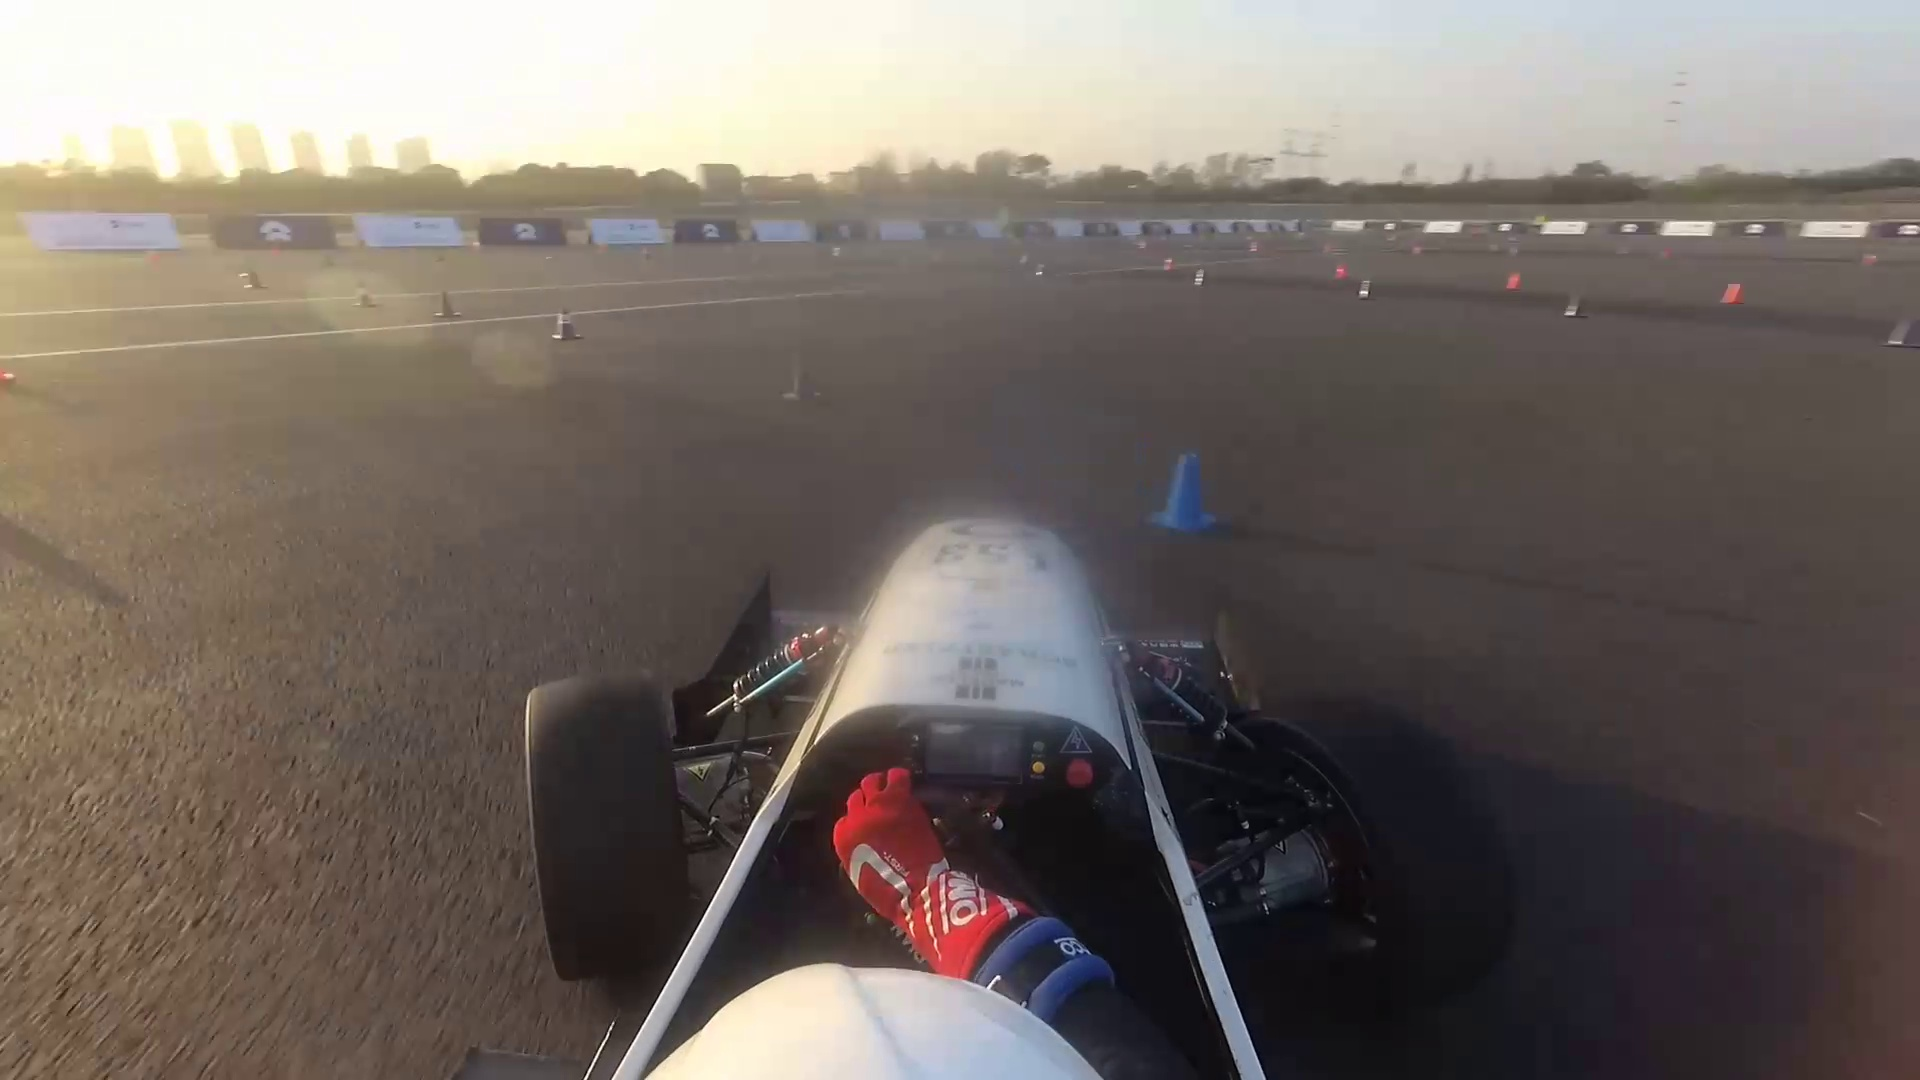blue_cone: (1151, 456, 1212, 543), (551, 313, 579, 342), (349, 285, 378, 313), (789, 367, 808, 400), (1888, 319, 1912, 345), (435, 294, 458, 316), (1567, 294, 1585, 319), (243, 273, 260, 290), (1358, 280, 1371, 301), (1191, 269, 1204, 286)
red_cone: (1724, 280, 1745, 305), (1507, 272, 1520, 291), (1336, 262, 1349, 280), (1164, 258, 1176, 272)
